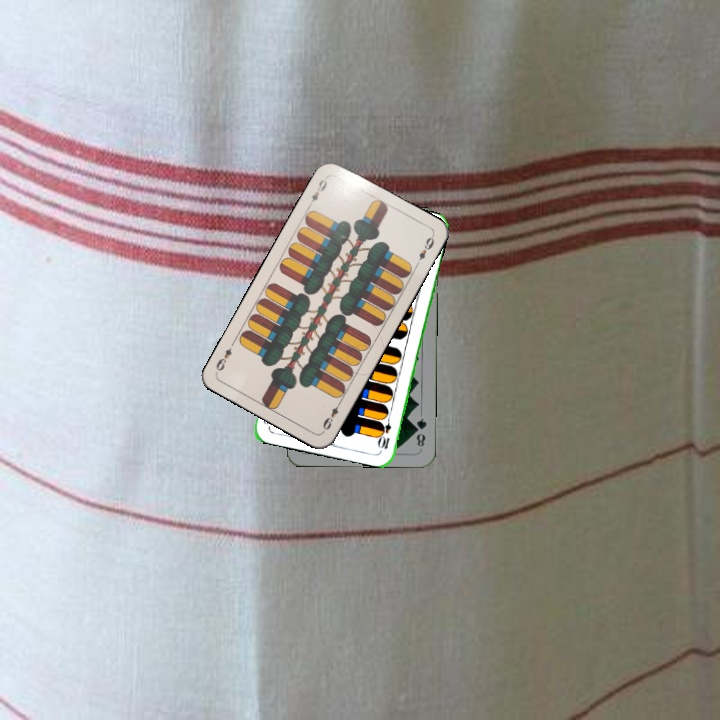E10: (376, 411, 394, 452)
E9: (318, 397, 344, 434), (304, 175, 330, 210)
G8: (411, 414, 429, 449)
